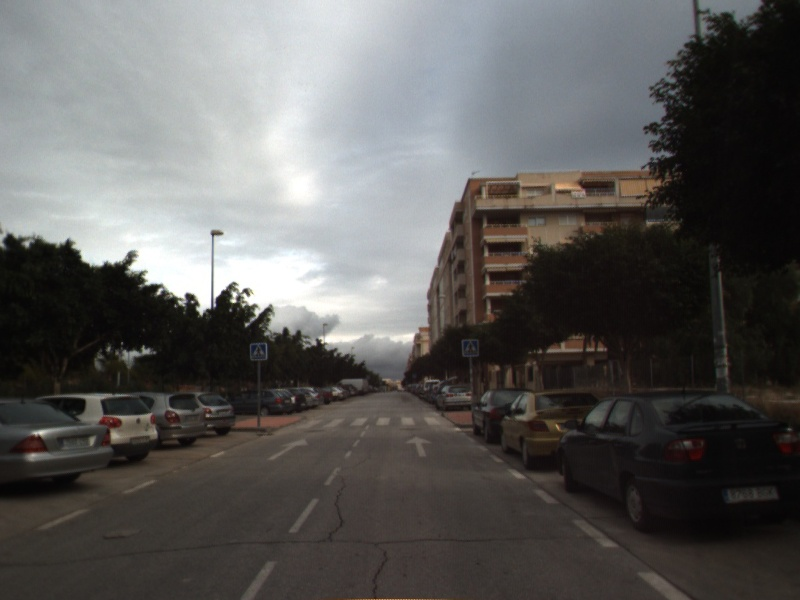STRAIGHT: (265, 437, 311, 462), (404, 434, 435, 459)
